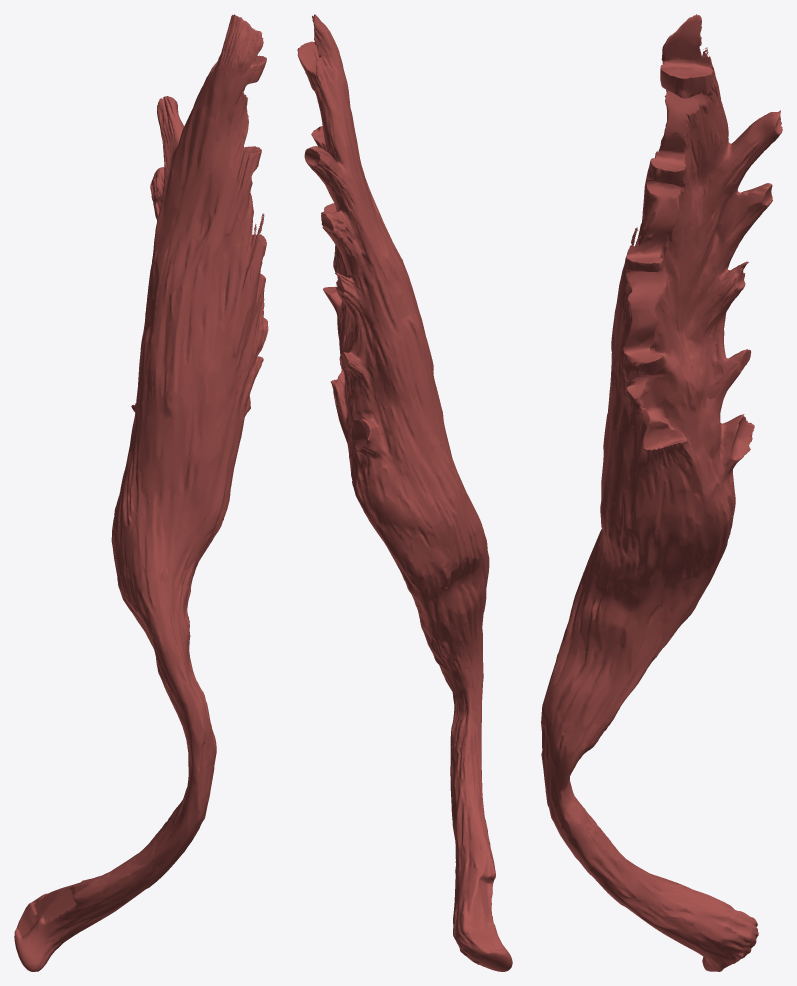
File: FMA22342.glb
3 views of the same model, side by side, from view 1: azimuth 30°, elevation 25°; view 2: azimuth 150°, elevation 25°; view 3: azimuth 270°, elevation 25° (orthographic). The views are drawn at different scales.
Parts seen in each view (by area): view 1: FMA22342; view 2: FMA22342; view 3: FMA22342.
Boxes of the visible parts, x1,y1,x2,y2 form: FMA22342: (14,14,268,971); FMA22342: (297,14,512,971); FMA22342: (541,14,782,971).
Size of the model in its own units: 0.0969 by 0.3682 by 0.0757.
